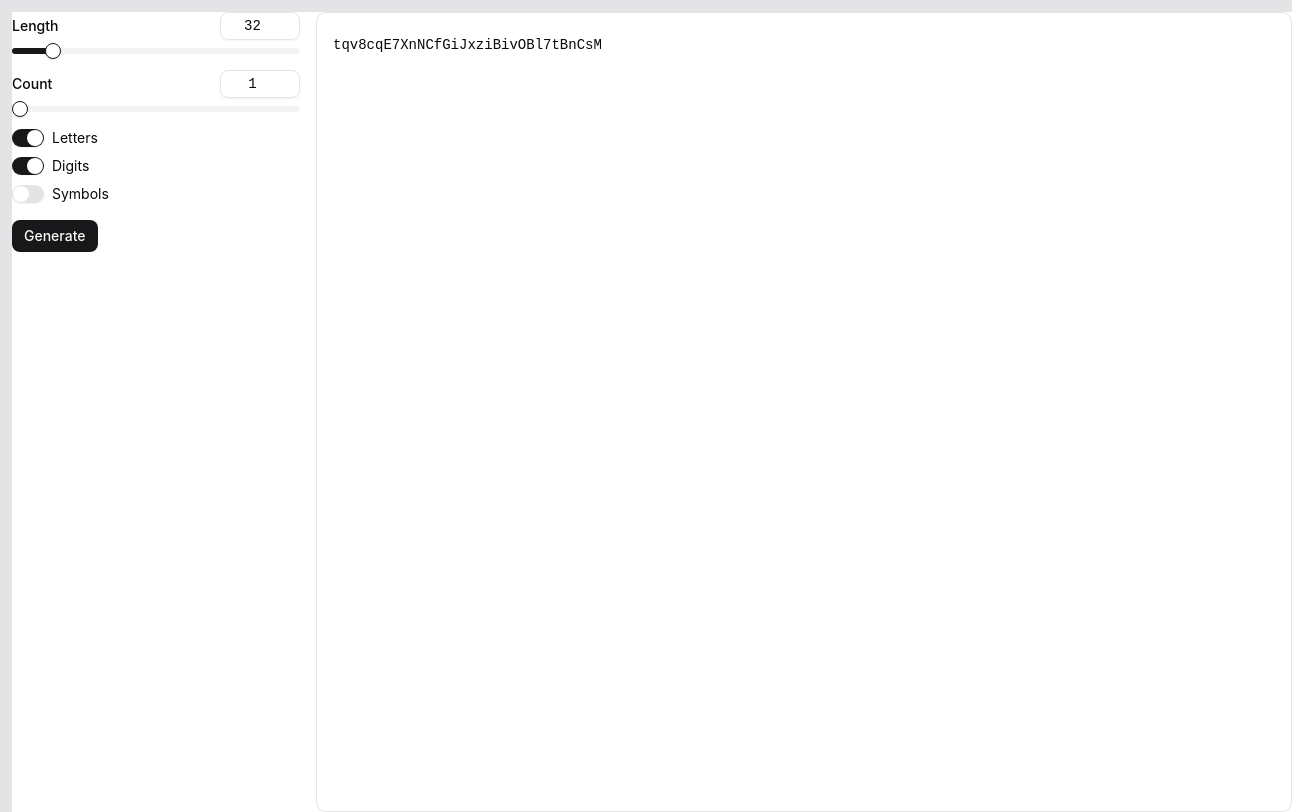
Test: count slider updates count and exposes bulk copy
Click the slider below "Count" at (20, 109), box [12, 101, 28, 117]
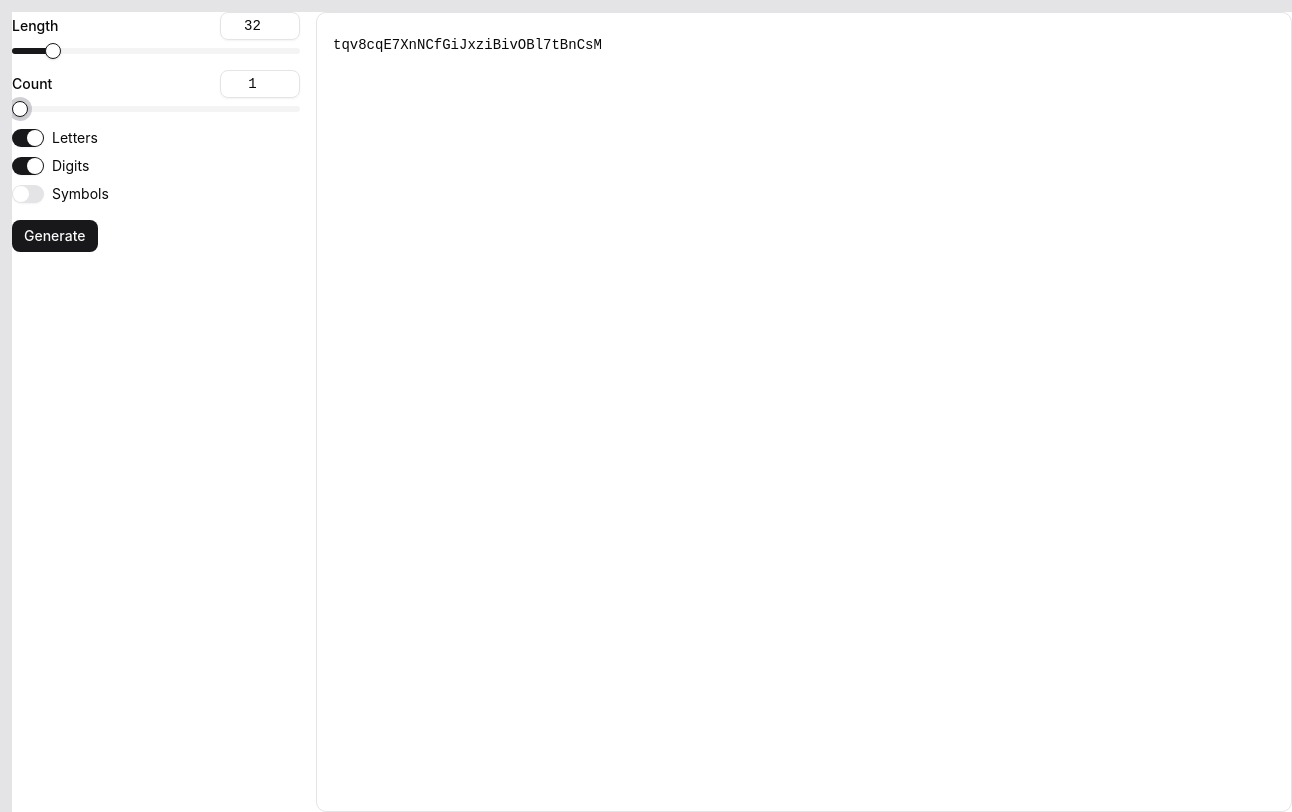
Press ArrowRight in the slider below "Count", box [12, 101, 28, 117]
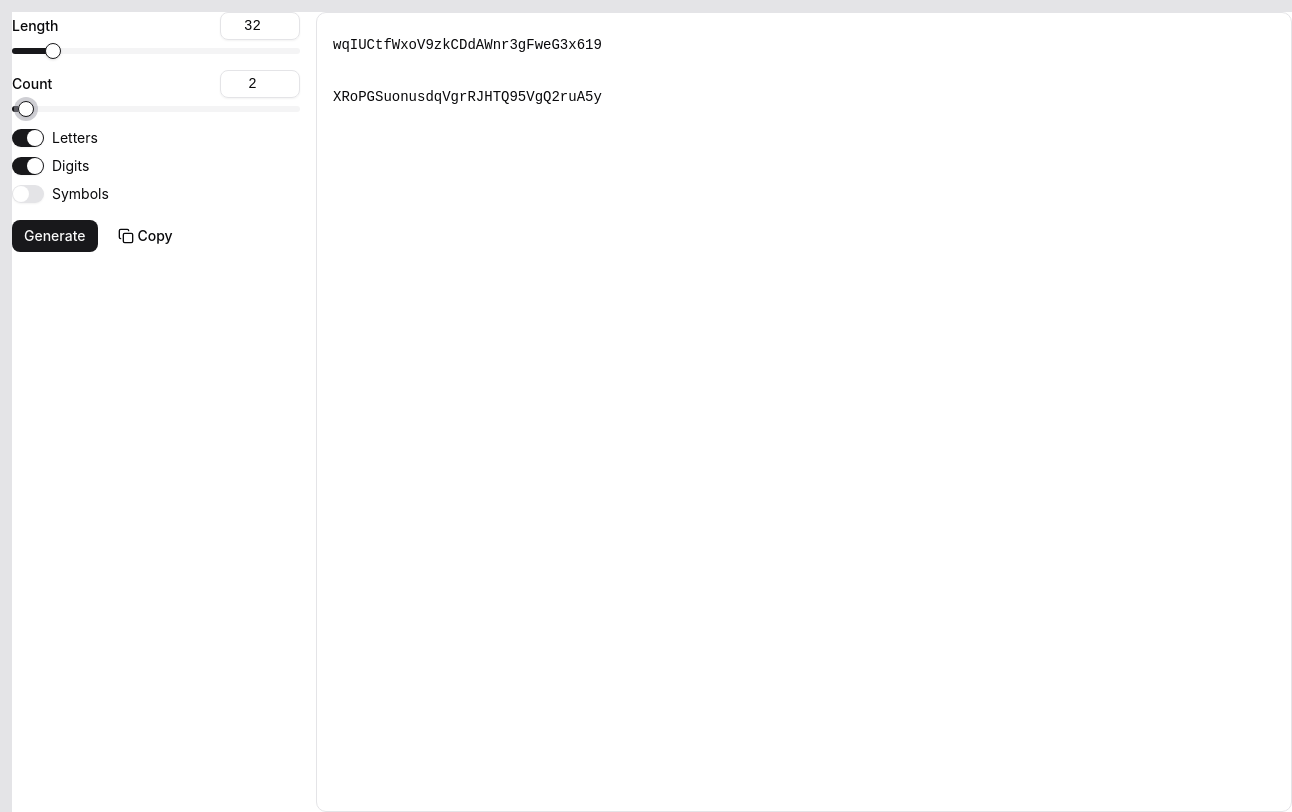
Check: the text "Copy" is shown, box [138, 226, 173, 246]
